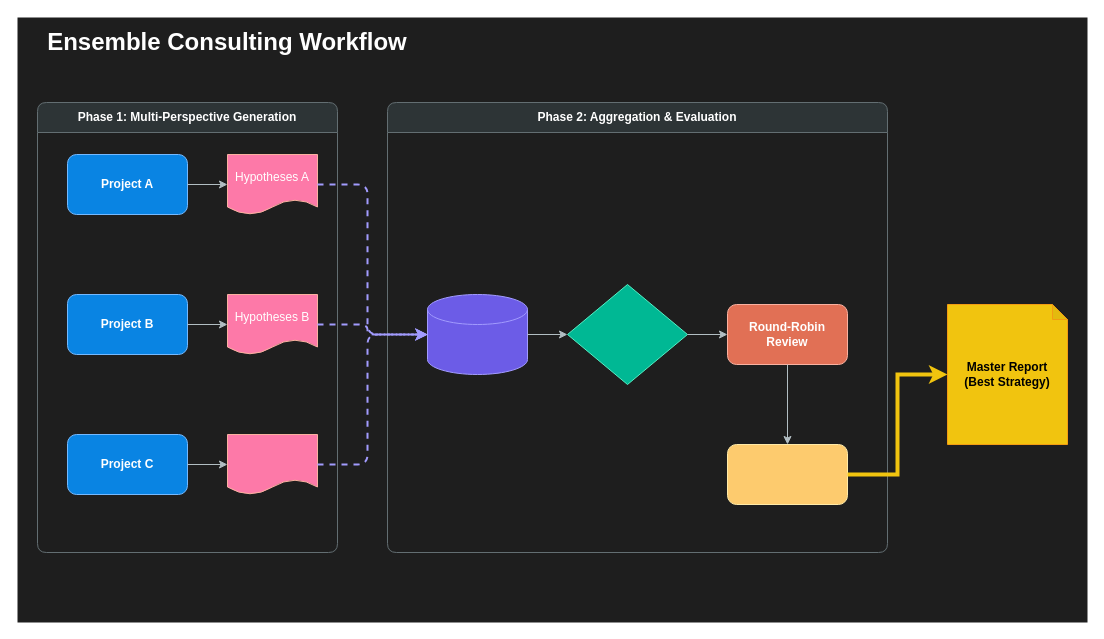
Image size: 1104x639. Some labels were removed from this diagram. Each missing label, with the centre of its shape:
Category Classification: the point at 627,334
Hypotheses C: the point at 272,464
Hypothesis Pool (N x M Items): the point at 477,334
Ranking: the point at 787,474
